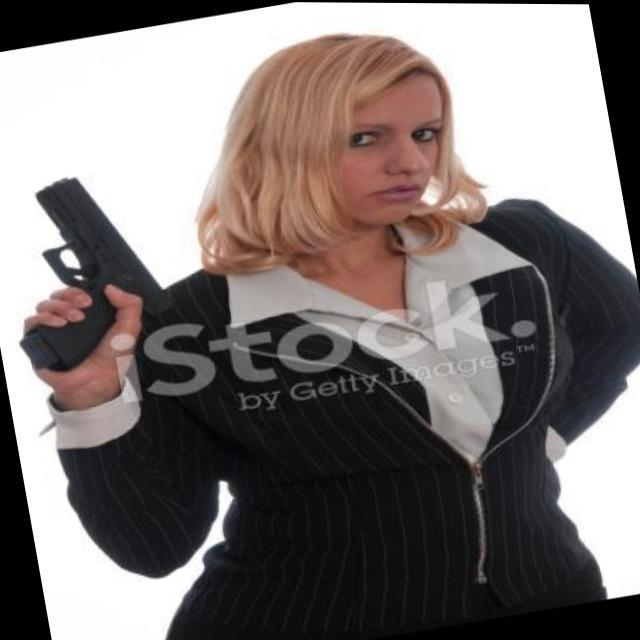weapon: (0, 158, 189, 383)
